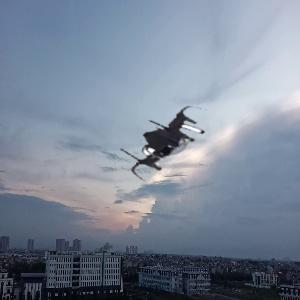drone: (118, 93, 216, 191)
